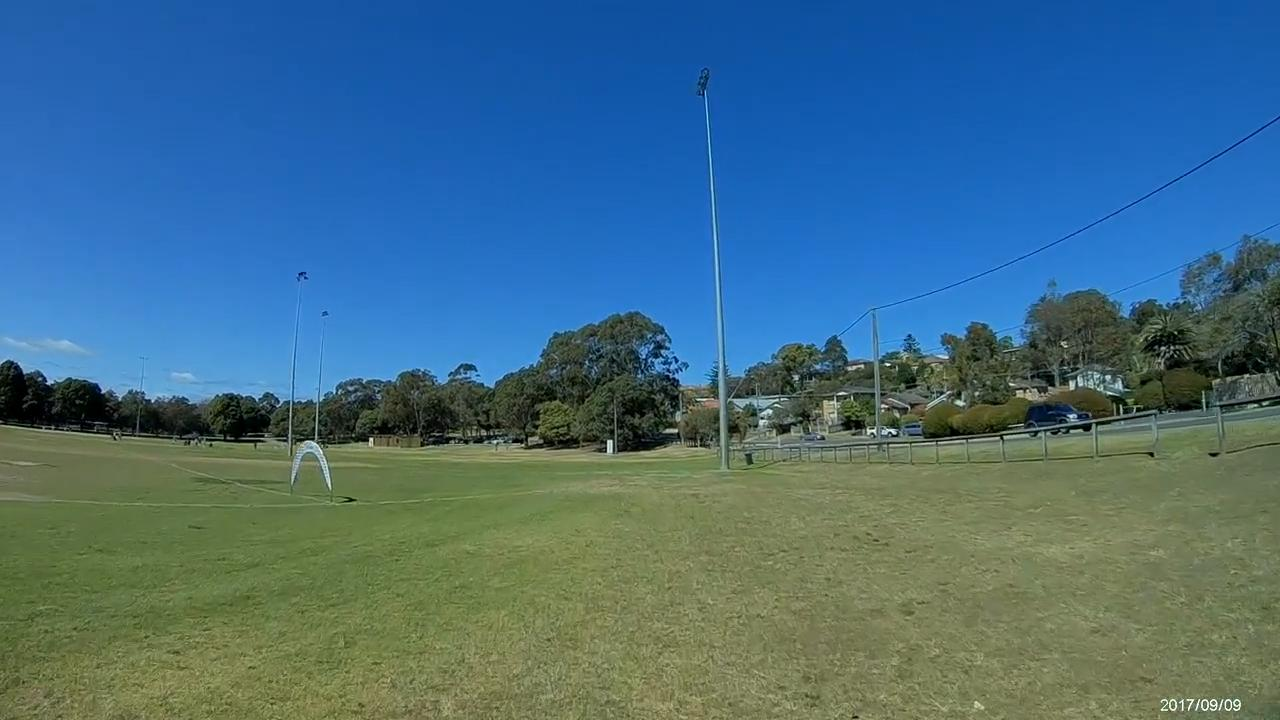gate: (289, 442, 331, 490)
